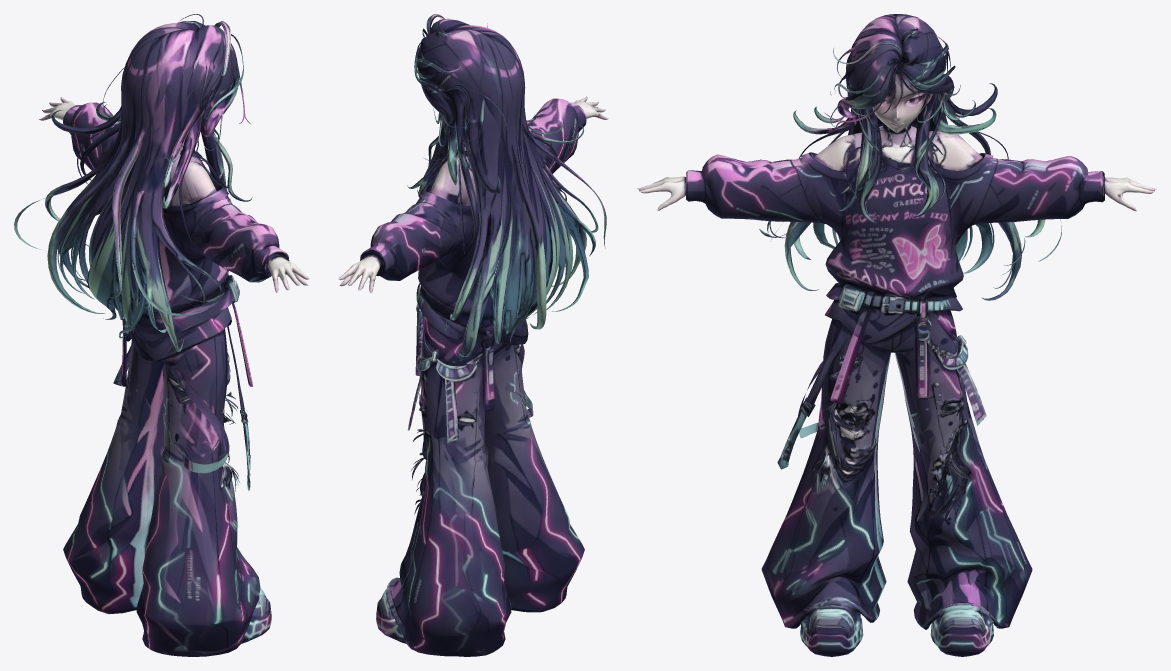
Rendered from girl-rigged.glb.
The picture shows the model from 3 angles, left to right: view 1: azimuth 30°, elevation 25°; view 2: azimuth 150°, elevation 25°; view 3: azimuth 270°, elevation 25°; orthographic projection. The views are drawn at different scales.
Parts seen in each view (by area): view 1: 3ee0eeb2-7a4d-4460-a8c1-963323a3c095; view 2: 3ee0eeb2-7a4d-4460-a8c1-963323a3c095; view 3: 3ee0eeb2-7a4d-4460-a8c1-963323a3c095.
Part boxes in pixels (x1,y1,x2,y2): 3ee0eeb2-7a4d-4460-a8c1-963323a3c095: [14, 14, 309, 656]; 3ee0eeb2-7a4d-4460-a8c1-963323a3c095: [338, 14, 608, 656]; 3ee0eeb2-7a4d-4460-a8c1-963323a3c095: [637, 14, 1156, 656].
Bounding box in the file's own units: 0.2837 × 0.9995 × 0.7651.
1 material, 1 textured.
